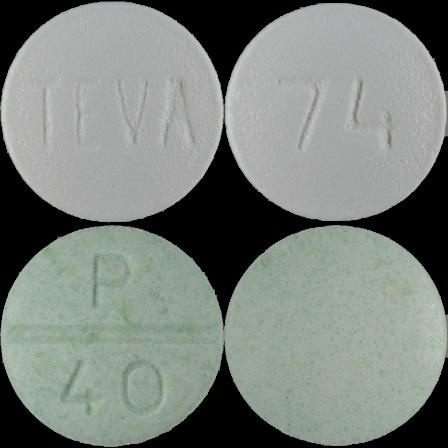61919-803: (0, 0, 224, 224)
